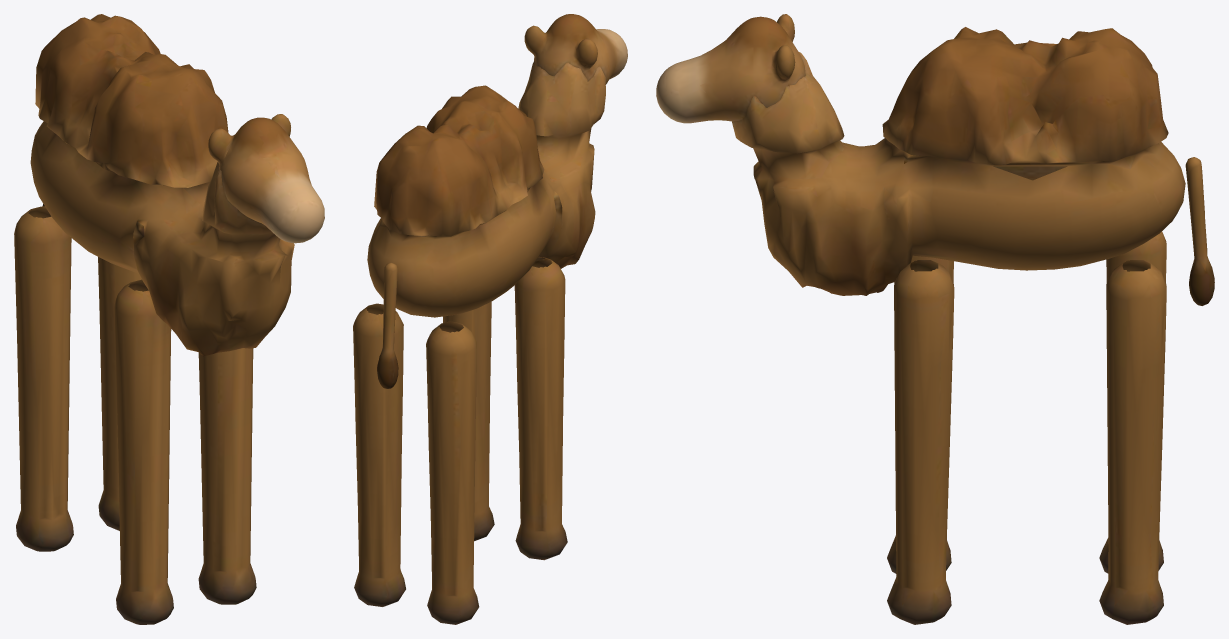
Rendered from animal_bactrian_camel.glb.
The picture shows the model from 3 angles, left to right: view 1: azimuth 30°, elevation 25°; view 2: azimuth 150°, elevation 25°; view 3: azimuth 270°, elevation 25°; orthographic projection. The views are drawn at different scales.
Parts seen in each view (by area): view 1: animal_bactrian_camel, leg2, leg0, leg1, head, leg3; view 2: animal_bactrian_camel, leg2, leg0, leg3, head, leg1, tail; view 3: animal_bactrian_camel, leg3, leg1, head, tail, leg2.
Boxes of the visible parts, box(x1,y1,x2,y2) form: animal_bactrian_camel: box(30, 14, 294, 356); leg2: box(14, 206, 73, 551); leg0: box(114, 279, 173, 624); leg1: box(198, 348, 256, 604); head: box(208, 114, 324, 243); leg3: box(98, 257, 141, 530); animal_bactrian_camel: box(367, 61, 605, 317); leg2: box(426, 321, 479, 624); leg0: box(514, 256, 567, 560); leg3: box(353, 303, 405, 606); head: box(524, 14, 627, 84); leg1: box(443, 301, 494, 541); tail: box(377, 262, 398, 388); animal_bactrian_camel: box(732, 27, 1185, 295); leg3: box(1099, 260, 1166, 624); leg1: box(887, 260, 954, 624); head: box(656, 14, 805, 123); tail: box(1185, 157, 1214, 305); leg2: box(1099, 231, 1166, 573).
Bounding box in the file's own units: 0.2197 × 0.7841 × 0.6838.
Materials: 1 (1 with a texture image).
